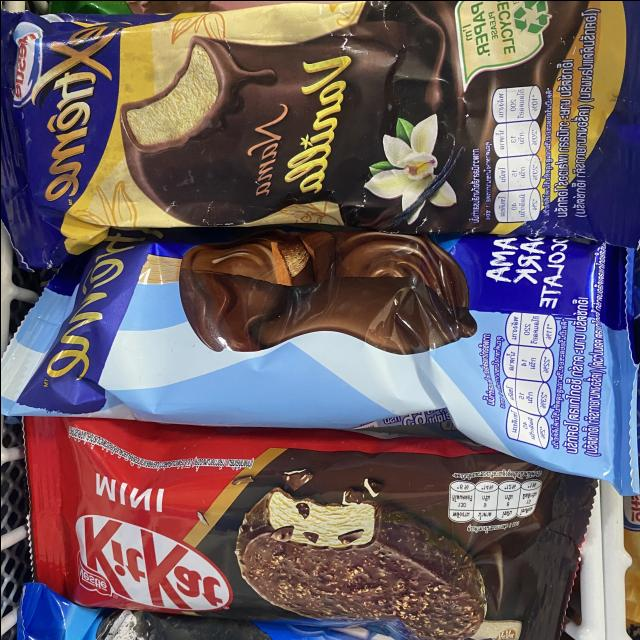plastik: (0, 0, 640, 265), (0, 229, 637, 493), (24, 416, 595, 640)
